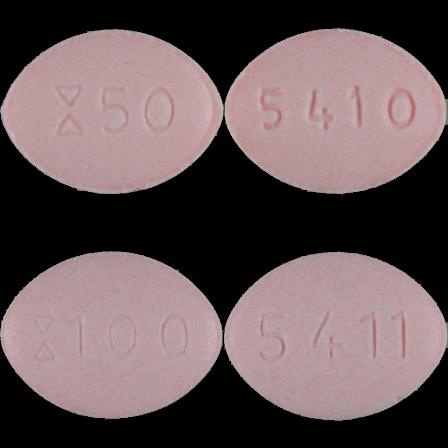0172-5410: (0, 0, 224, 224)
